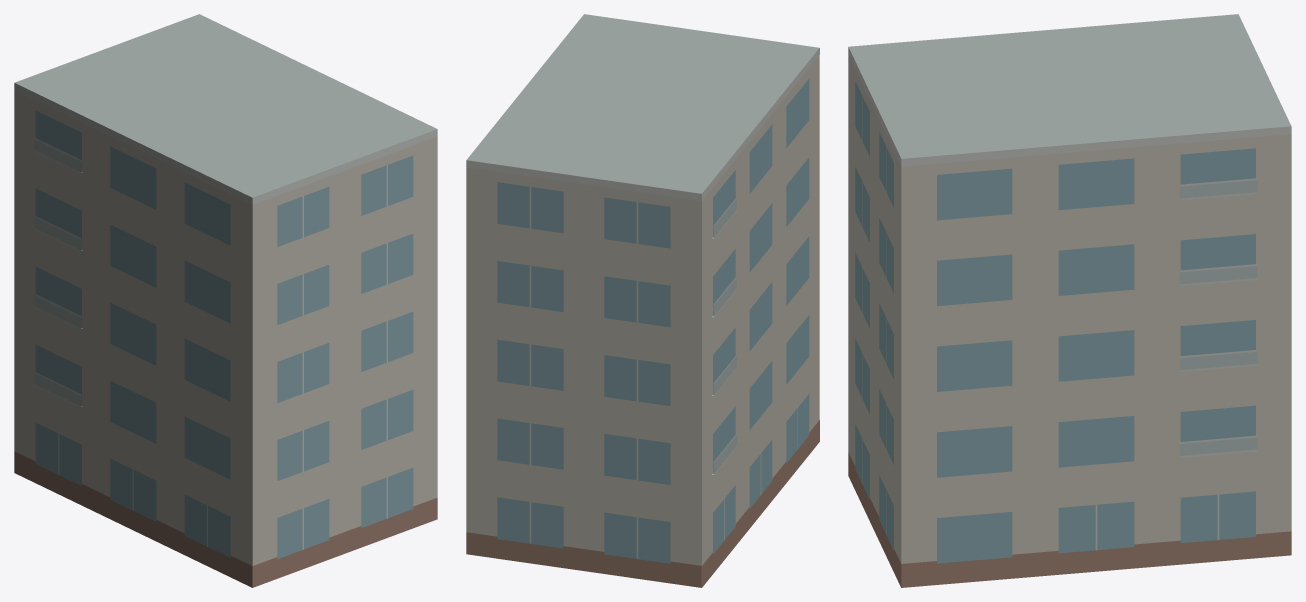
The model's file is survey-upis-32876916.glb.
3 renders of one model, left to right at view 1: azimuth 30°, elevation 25°; view 2: azimuth 150°, elevation 25°; view 3: azimuth 270°, elevation 25°, orthographic. The views are drawn at different scales.
Visible parts, largest first — view 1: survey-upis-32876916.tmp; view 2: survey-upis-32876916.tmp; view 3: survey-upis-32876916.tmp.
Part boxes in pixels (left/top/right/bottom): survey-upis-32876916.tmp: left=14, top=14, right=437, bottom=587; survey-upis-32876916.tmp: left=466, top=14, right=819, bottom=587; survey-upis-32876916.tmp: left=848, top=14, right=1291, bottom=587.
Bounding box in the file's own units: 9.57 × 13.2 × 12.37.
